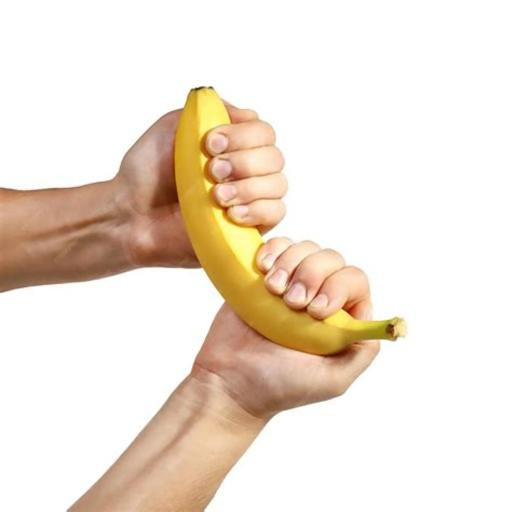banana: (175, 88, 405, 354)
